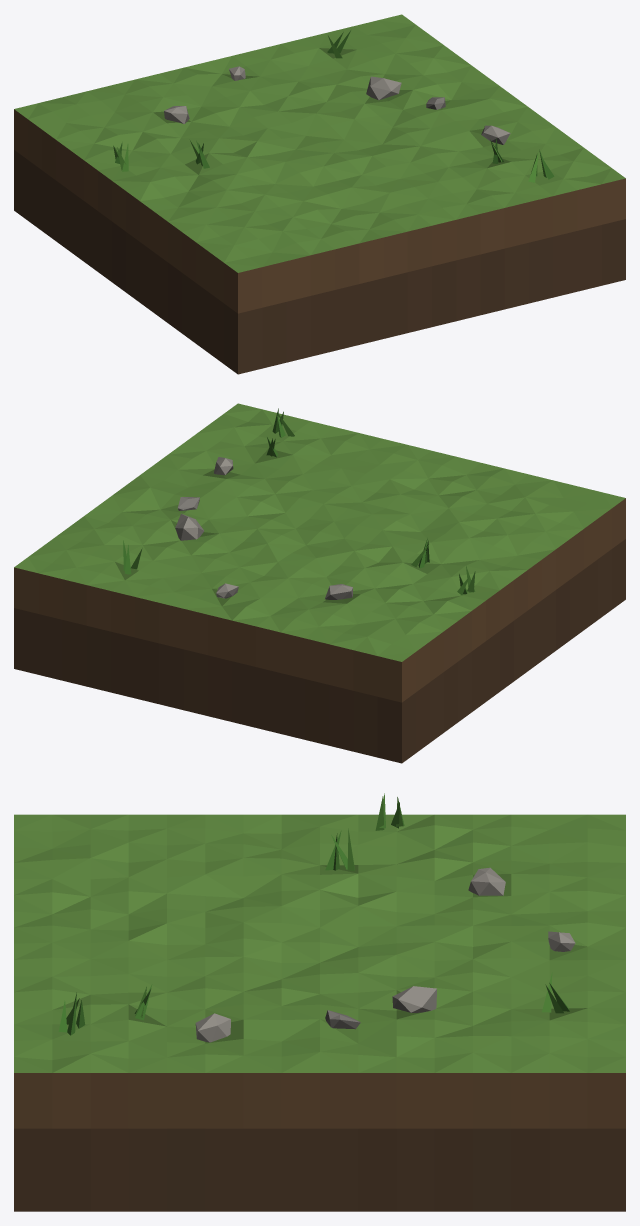
The model's file is grass_3.glb.
3 views of the same model, one above another, from view 1: azimuth 30°, elevation 25°; view 2: azimuth 150°, elevation 25°; view 3: azimuth 270°, elevation 25° (orthographic). The views are drawn at different scales.
Visible parts, largest first — view 1: Grass3; view 2: Grass3; view 3: Grass3.
Part boxes in pixels (x1=…): Grass3: x1=14, y1=14, x2=625, y2=374; Grass3: x1=14, y1=403, x2=625, y2=763; Grass3: x1=14, y1=793, x2=625, y2=1211.
Bounding box in the file's own units: 2 × 0.6414 × 2.
